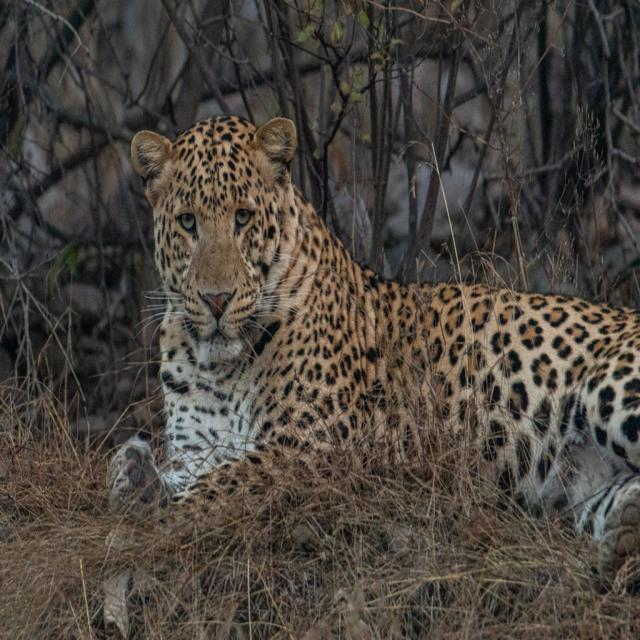Leopard: (103, 114, 640, 533)
